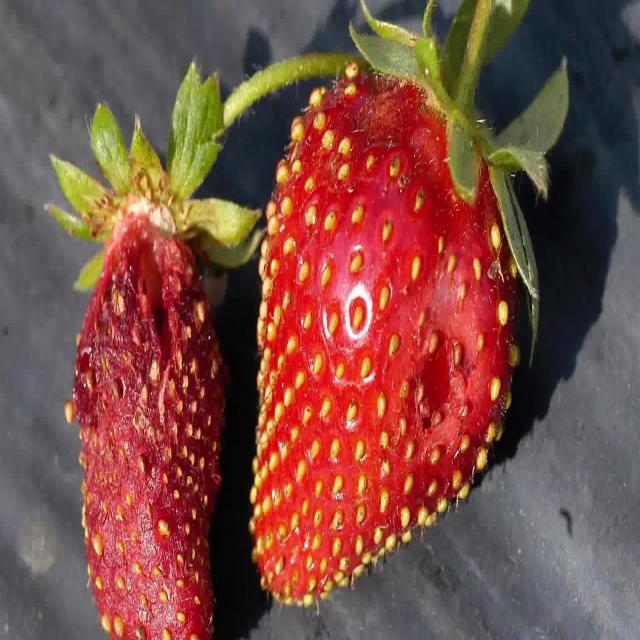Mancha negra Antracnosis: (250, 28, 541, 598), (60, 186, 226, 628)
